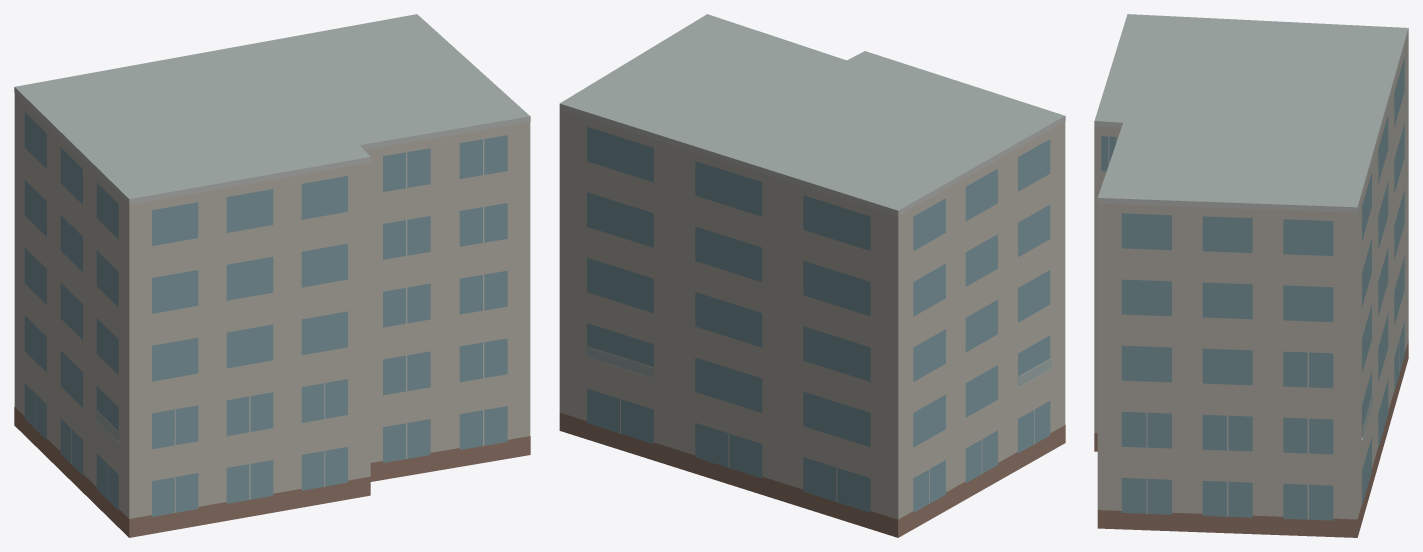
The model's file is survey-upis-32760969.glb.
3 views of the same model, side by side, from view 1: azimuth 30°, elevation 25°; view 2: azimuth 150°, elevation 25°; view 3: azimuth 270°, elevation 25° (orthographic). The views are drawn at different scales.
Parts seen in each view (by area): view 1: survey-upis-32760969.tmp; view 2: survey-upis-32760969.tmp; view 3: survey-upis-32760969.tmp.
Boxes of the visible parts, bbox=[...] form: survey-upis-32760969.tmp: bbox=[14, 14, 530, 537]; survey-upis-32760969.tmp: bbox=[559, 14, 1065, 537]; survey-upis-32760969.tmp: bbox=[1094, 14, 1408, 537].
Size of the model in its own units: 18.19 by 14.5 by 12.49.
